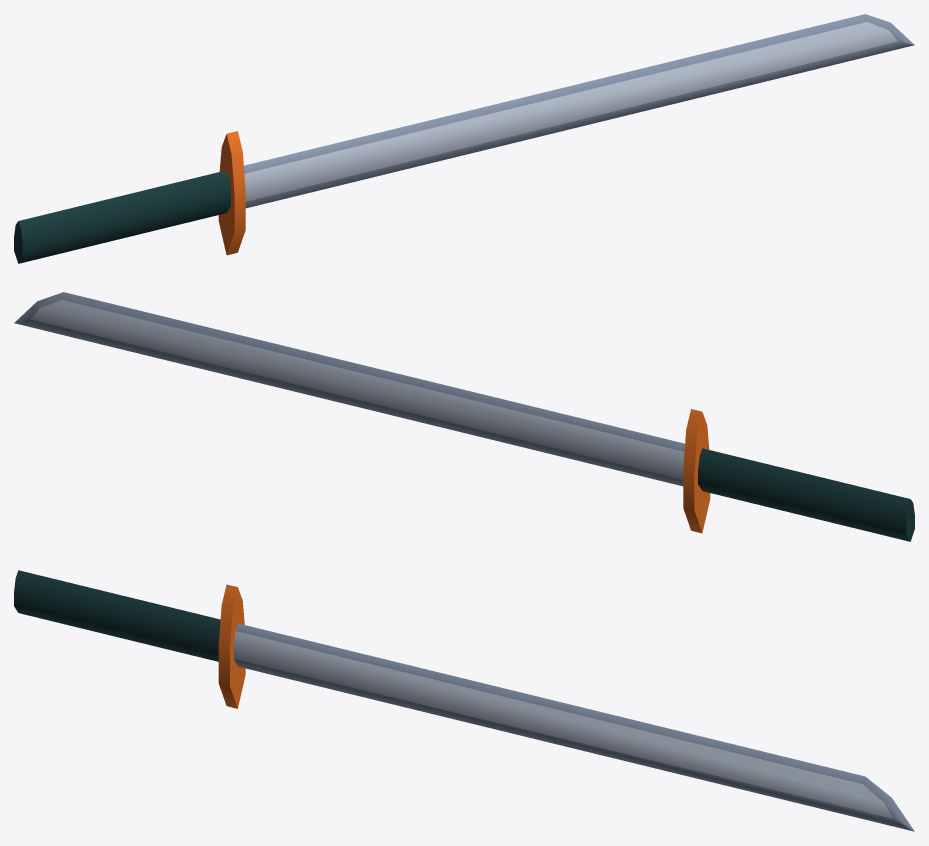
The model's file is SanchezPerugaJeronimo_4toD_espada.fbx.
The picture shows the model from 3 angles, top to bottom: view 1: azimuth 30°, elevation 25°; view 2: azimuth 150°, elevation 25°; view 3: azimuth 330°, elevation 25°; orthographic projection.
Visible parts, largest first — view 1: Espada; view 2: Espada; view 3: Espada.
Part boxes in pixels (x1,y1,x2,y2): Espada: [14, 14, 914, 263]; Espada: [14, 292, 914, 541]; Espada: [14, 570, 914, 831].
Bounding box in the file's own units: 136 × 17.64 × 4.15.
1 material, 1 textured.
